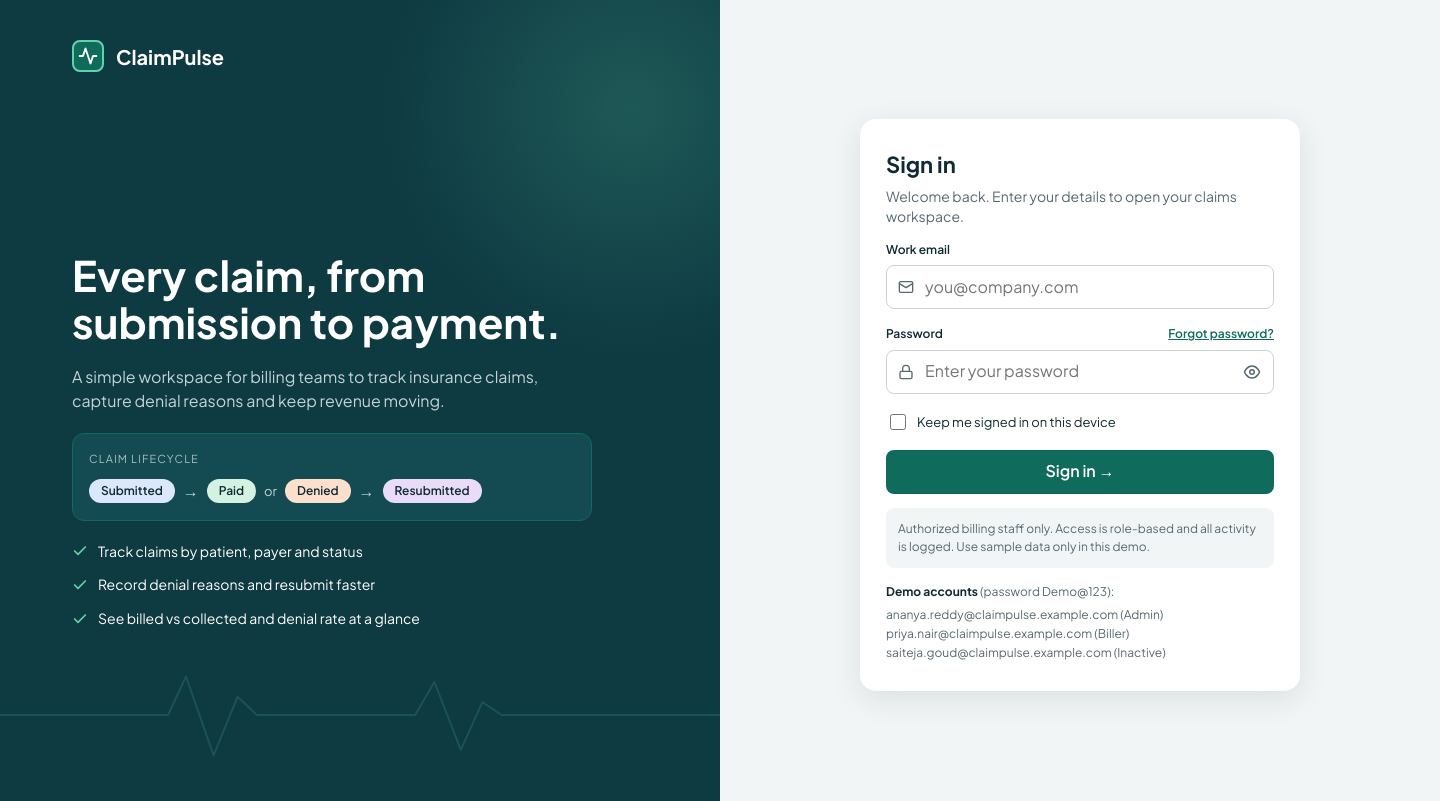
Test: Dashboard › signs in and shows the dashboard figures
Type "ananya.reddy@claimpulse.example.com" into the field labelled "Work email". click: (1080,287)
box: [886,265,1274,309]
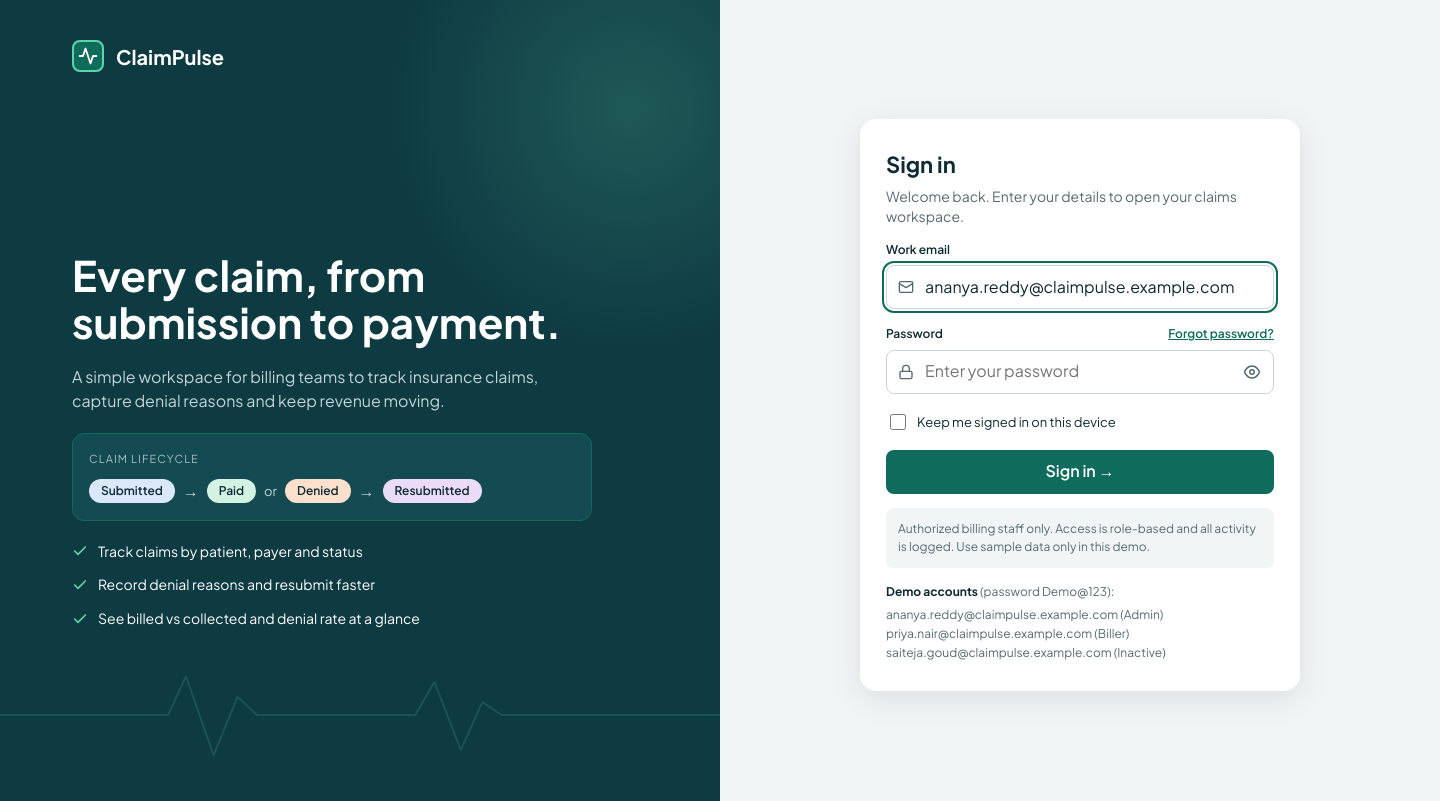
Type "Demo@123" into the password field labelled "Password". click: (1080,372)
box: [886,350,1274,394]
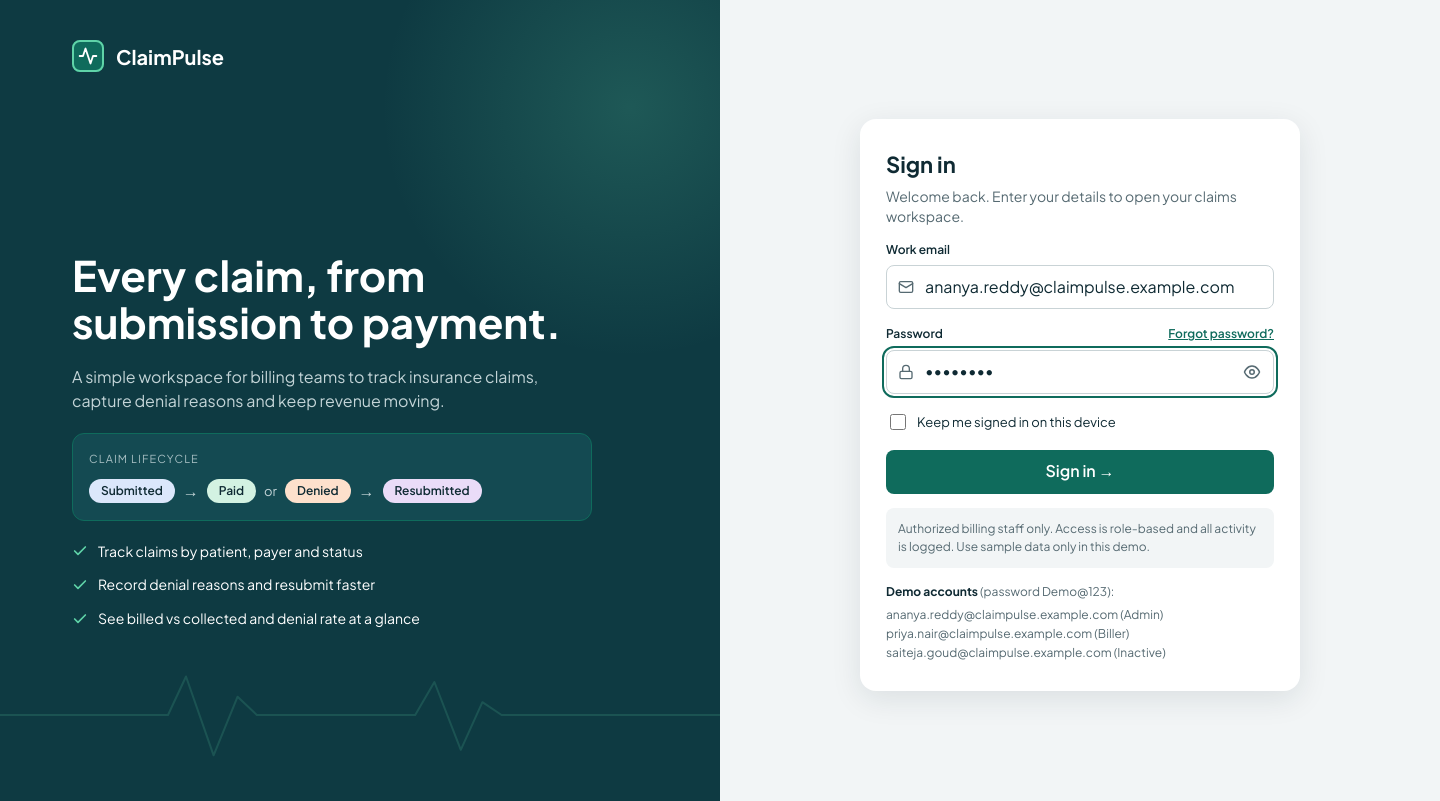
Click the button "Sign in →". click: (1080,472)
box: [886,450,1274,494]
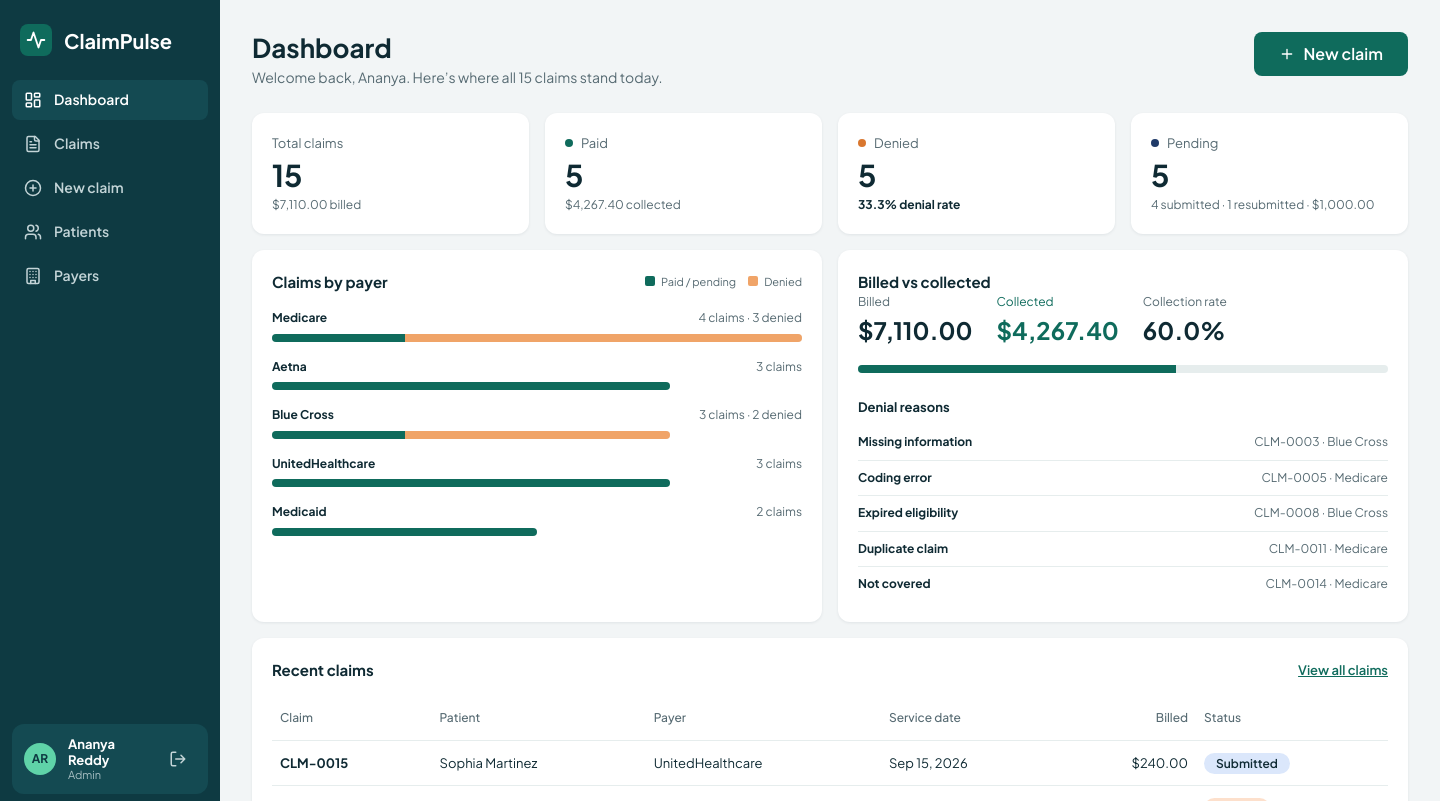
Check: the heading "Dashboard" is shown, box [252,31,392,64]
Check: the text "Welcome back, Ananya." is shown, box [252,67,662,89]
Check: the text "$7,110.00 billed" is shown, box [272,197,361,212]
